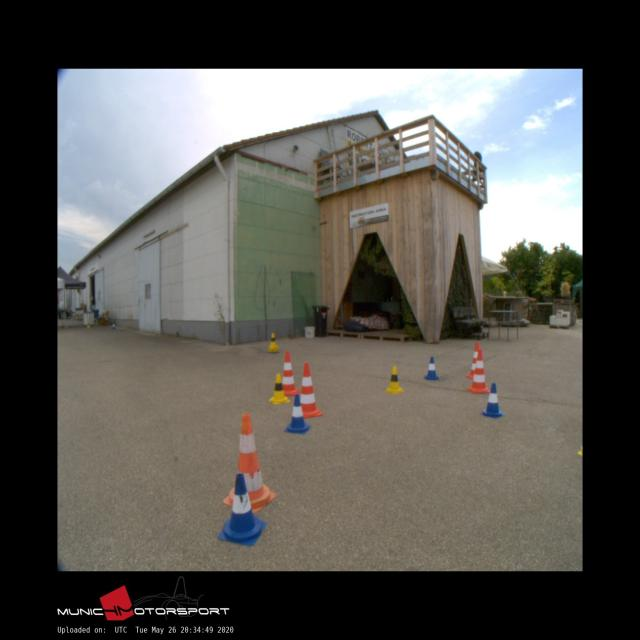blue_cone: (218, 473, 267, 546), (284, 394, 309, 433), (480, 383, 505, 417), (424, 356, 438, 379)
large_orange_cone: (222, 413, 276, 513), (298, 362, 322, 417), (468, 349, 489, 392), (279, 352, 299, 394), (466, 342, 485, 378)
yellow_cone: (269, 373, 289, 404), (384, 365, 404, 393), (268, 333, 276, 346)
